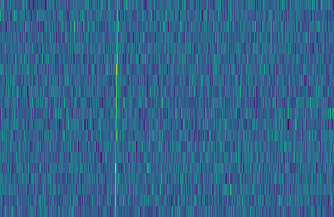signal: (109, 0, 121, 217)
